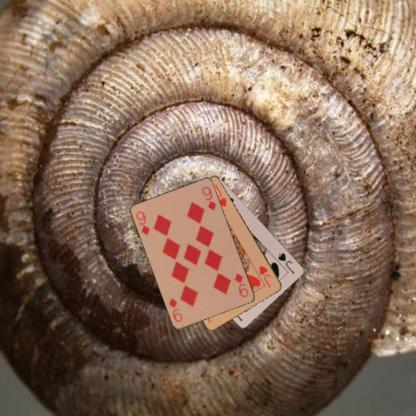9d: (232, 271, 250, 299), (134, 209, 152, 236)
Jh: (257, 263, 272, 289)
Js: (275, 250, 296, 275)
